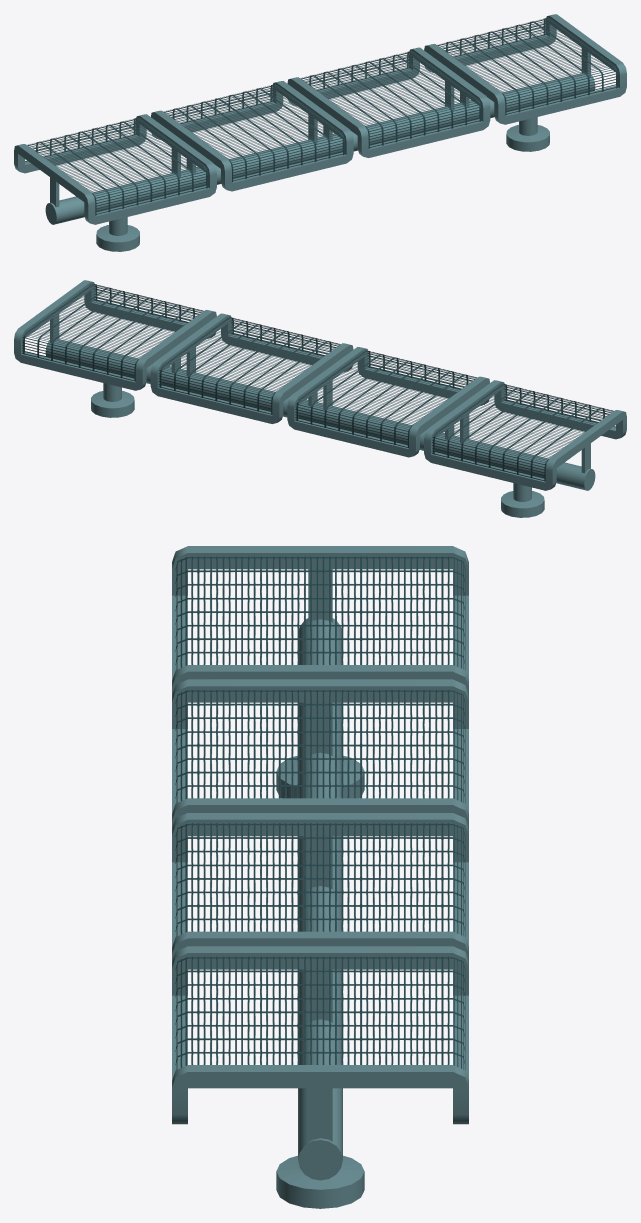
Rendered from bench_city.gltf.
The picture shows the model from 3 angles, top to bottom: view 1: azimuth 30°, elevation 25°; view 2: azimuth 150°, elevation 25°; view 3: azimuth 270°, elevation 25°; orthographic projection. The views are drawn at different scales.
Parts seen in each view (by area): view 1: Object_4, Object_8, Object_10, Object_12, Object_6, Object_11, Object_9, Object_5, Object_7, Object_3, Object_13; view 2: Object_4, Object_8, Object_10, Object_6, Object_12, Object_11, Object_9, Object_5, Object_7, Object_3, Object_13; view 3: Object_5, Object_8, Object_10, Object_6, Object_12, Object_7, Object_9, Object_11, Object_4, Object_3, Object_21, Object_13 (+4 smaller).
Part boxes in pixels (x1=…): Object_4: x1=45, y1=73, x2=595, y2=224; Object_8: x1=300, y1=51, x2=482, y2=148; Object_10: x1=164, y1=84, x2=345, y2=182; Object_12: x1=25, y1=117, x2=208, y2=215; Object_6: x1=437, y1=17, x2=618, y2=115; Object_11: x1=14, y1=114, x2=216, y2=224; Object_9: x1=151, y1=81, x2=353, y2=191; Object_5: x1=424, y1=14, x2=626, y2=124; Object_7: x1=287, y1=47, x2=490, y2=157; Object_3: x1=506, y1=117, x2=549, y2=151; Object_13: x1=96, y1=217, x2=139, y2=251; Object_4: x1=45, y1=339, x2=595, y2=490; Object_8: x1=158, y1=317, x2=340, y2=414; Object_10: x1=295, y1=350, x2=477, y2=448; Object_6: x1=22, y1=283, x2=203, y2=381; Object_12: x1=432, y1=383, x2=615, y2=481; Object_11: x1=424, y1=380, x2=626, y2=490; Object_9: x1=287, y1=347, x2=489, y2=457; Object_5: x1=14, y1=280, x2=216, y2=390; Object_7: x1=150, y1=313, x2=353, y2=423; Object_3: x1=91, y1=383, x2=134, y2=417; Object_13: x1=501, y1=483, x2=544, y2=517; Object_5: x1=172, y1=946, x2=468, y2=1124; Object_8: x1=175, y1=823, x2=465, y2=936; Object_10: x1=175, y1=690, x2=465, y2=803; Object_6: x1=175, y1=956, x2=465, y2=1069; Object_12: x1=175, y1=556, x2=465, y2=669; Object_7: x1=172, y1=813, x2=468, y2=961; Object_9: x1=172, y1=679, x2=468, y2=828; Object_11: x1=172, y1=546, x2=468, y2=694; Object_4: x1=298, y1=618, x2=342, y2=1180; Object_3: x1=276, y1=1155, x2=364, y2=1208; Object_21: x1=308, y1=1088, x2=332, y2=1141; Object_13: x1=276, y1=755, x2=364, y2=798.
Size of the model in its own units: 258 by 40.89 by 61.68.
2 materials, 1 textured.
